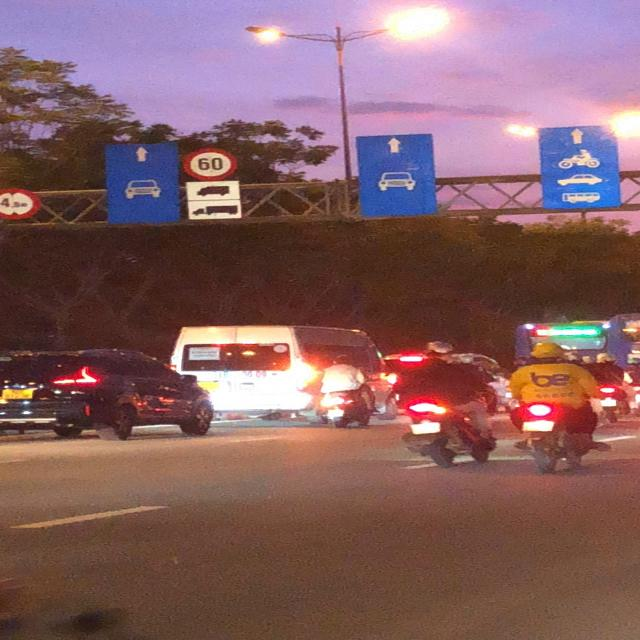Bien bao han che chieu cao: (0, 184, 48, 223)
Bien bao toc do toi da cho phep: (181, 143, 247, 181)
